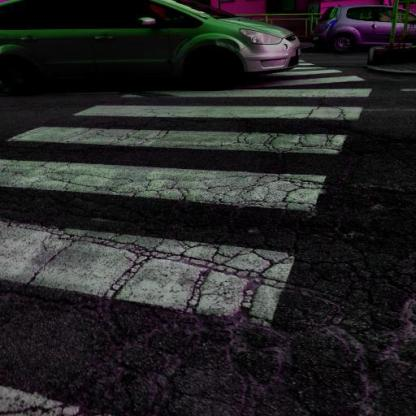crosswalk: (4, 100, 364, 166)
